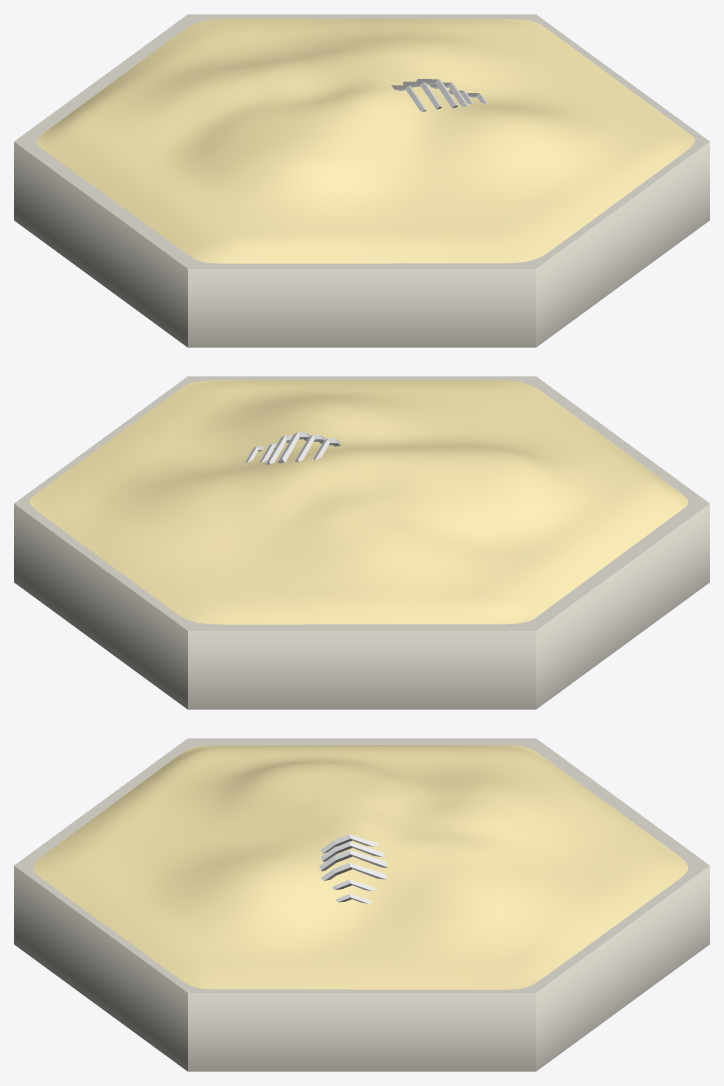
File: Desert_Hexagon.fbx
The picture shows the model from 3 angles, top to bottom: view 1: azimuth 30°, elevation 25°; view 2: azimuth 150°, elevation 25°; view 3: azimuth 270°, elevation 25°; orthographic projection.
Visible parts, largest first — view 1: Plane, Hexagon; view 2: Plane, Hexagon; view 3: Plane, Hexagon, Cube.002.
Part boxes in pixels (x1,y1,x2,y2): Plane: (37,18,694,263); Hexagon: (14,14,709,347); Plane: (29,380,688,624); Hexagon: (14,376,709,709); Plane: (33,745,688,989); Hexagon: (14,738,709,1071); Cube.002: (319,850,386,871).
Size of the model in its own units: 346 by 82.24 by 400.
